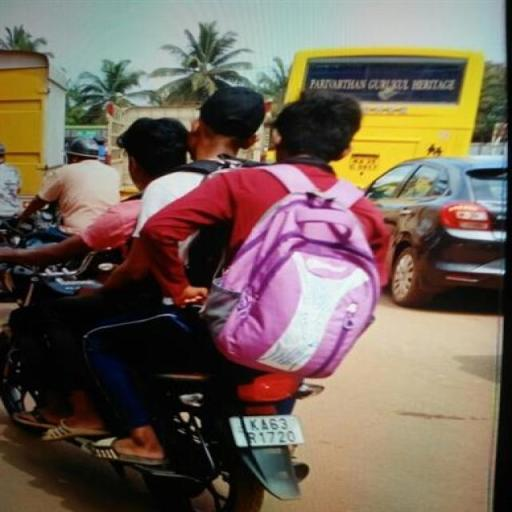tripple riding: (97, 82, 407, 379)
